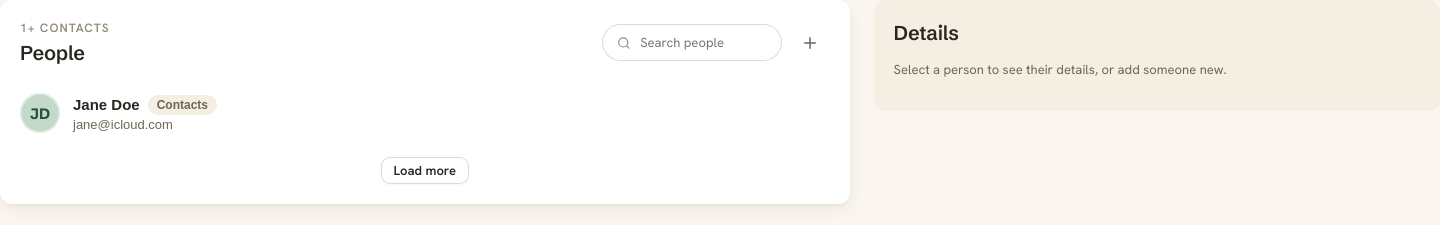
Test: CRMScreen › searches on the server, coalescing keystrokes, so matches past the first page are found
The image size is (1440, 225).
Expected: the button "Jane Doe" is shown, [20,81,830,145]
Type "z" into the field labelled "Search people".
click(702, 42); type("z")  # box [638,33,767,52]
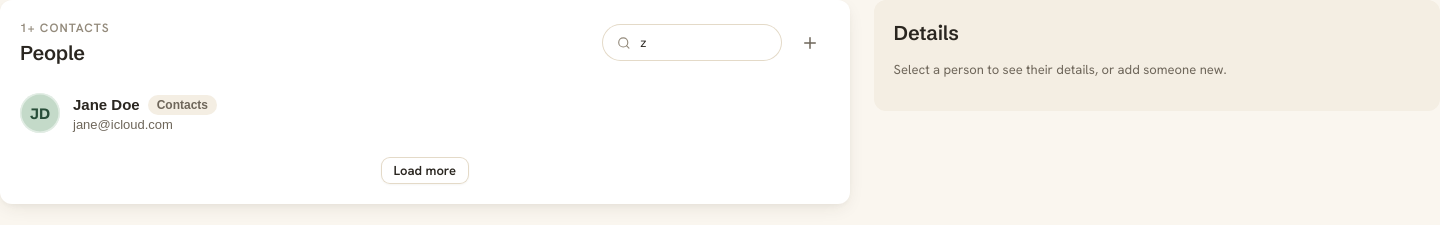
Replace the text in the field named "Search people" with "ze" at (702, 42), box [638,33,767,52]
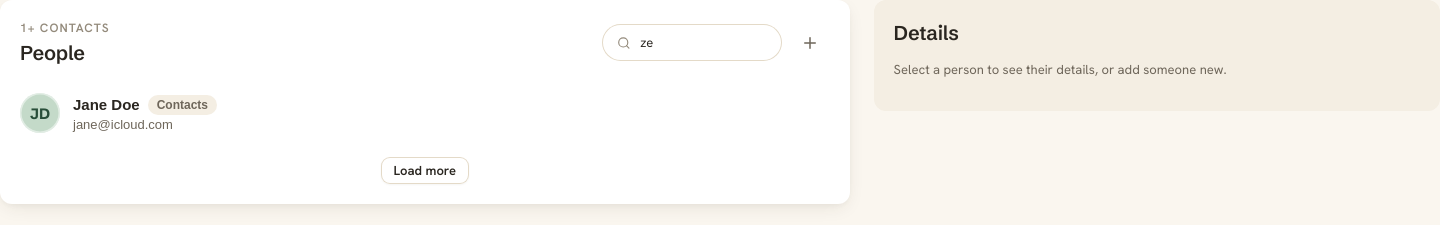
Replace the text in the field named "Search people" with "zeb" at (702, 42), box [638,33,767,52]
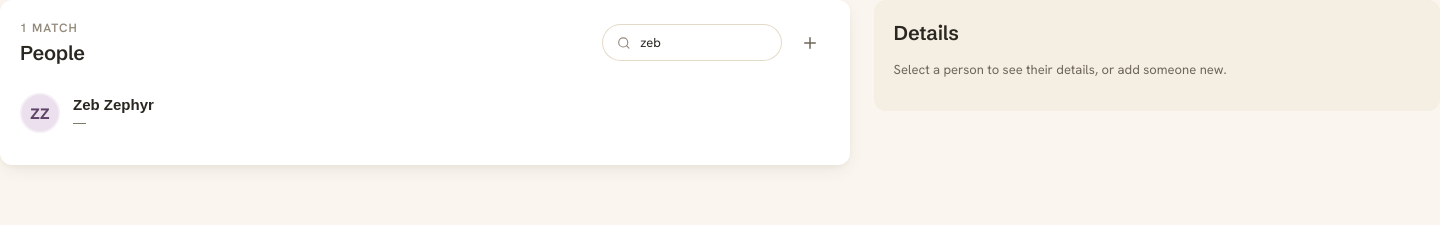
Expected: the button "ZZ Zeb Zephyr —" is shown, [20,81,830,145]
Expected: the button "Jane Doe" is gone
